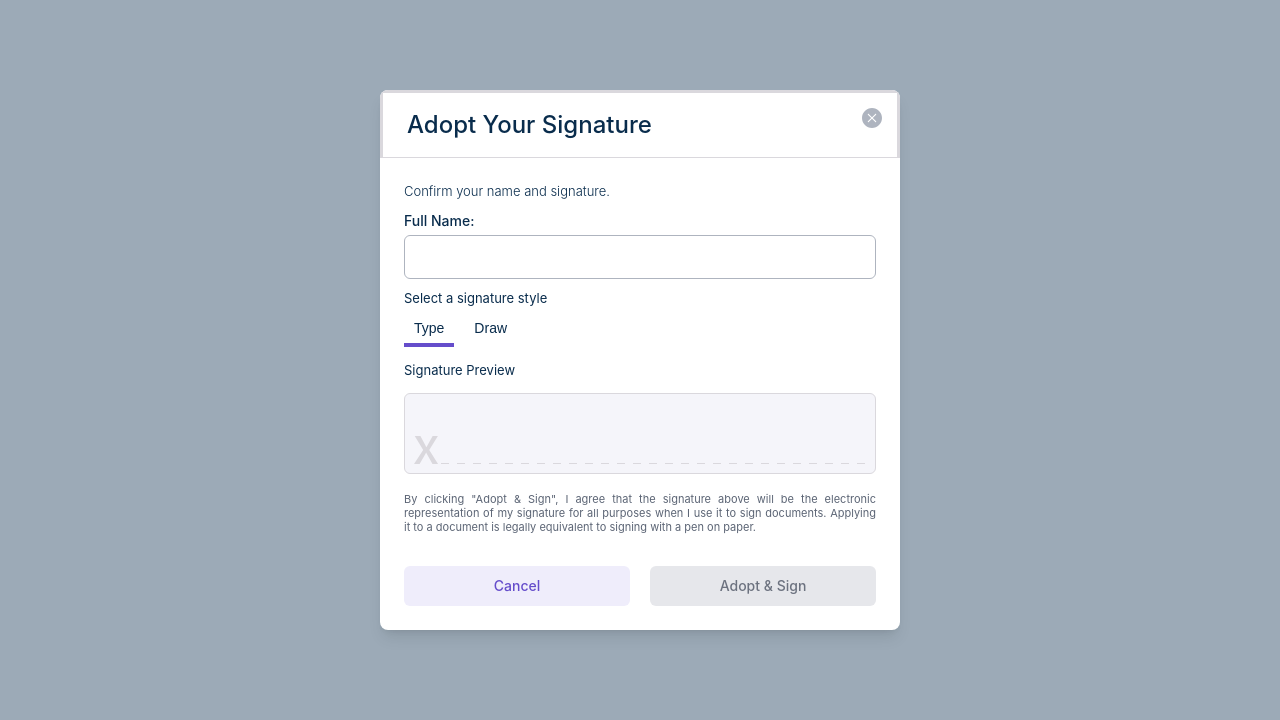
Test: VerdocsAdoptSignatureDialogComponent › clears the drawing and disables adopt again
The image size is (1280, 720).
Click the tab "Draw". click: (491, 330)
box: [464,313,517,347]
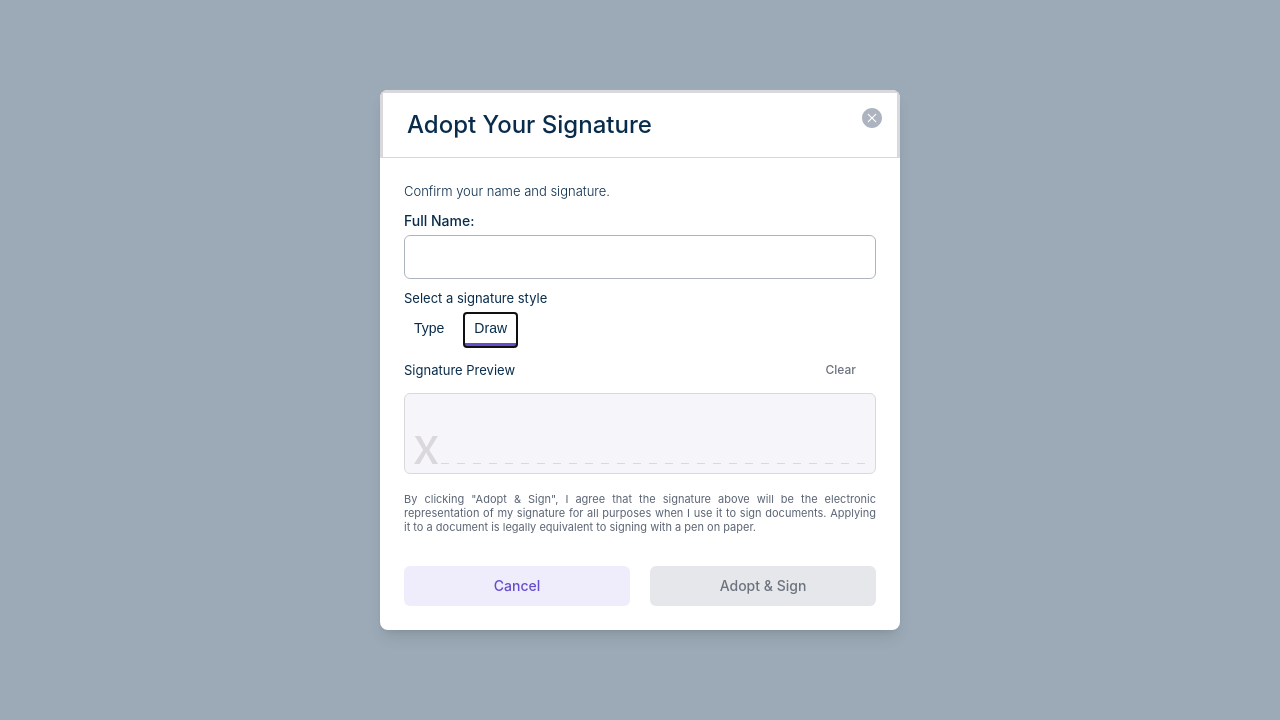
Result: the button "Clear" is disabled at [806,358,876,382]
Press the mouse on the picture named "Signature Preview" at (640, 434), box [405,394,875,473]
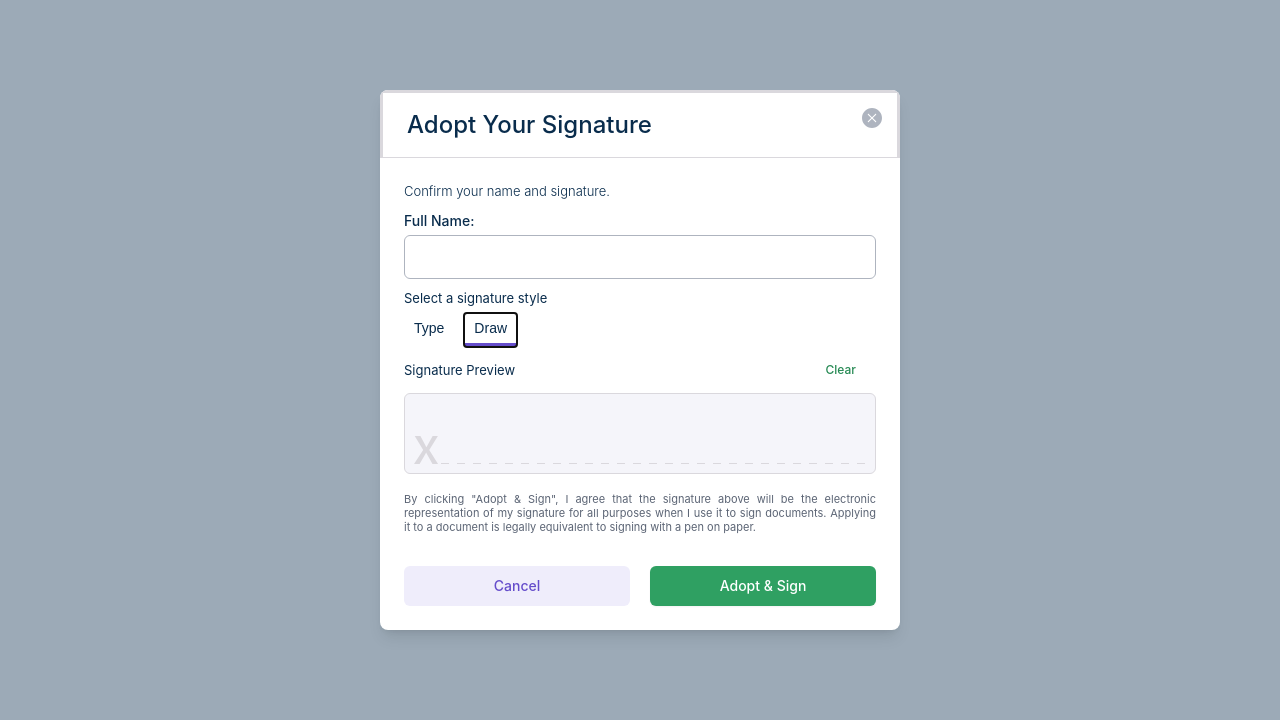
Result: the button "Clear" is enabled
Click the button "Clear". click: (841, 370)
box: [806,358,876,382]
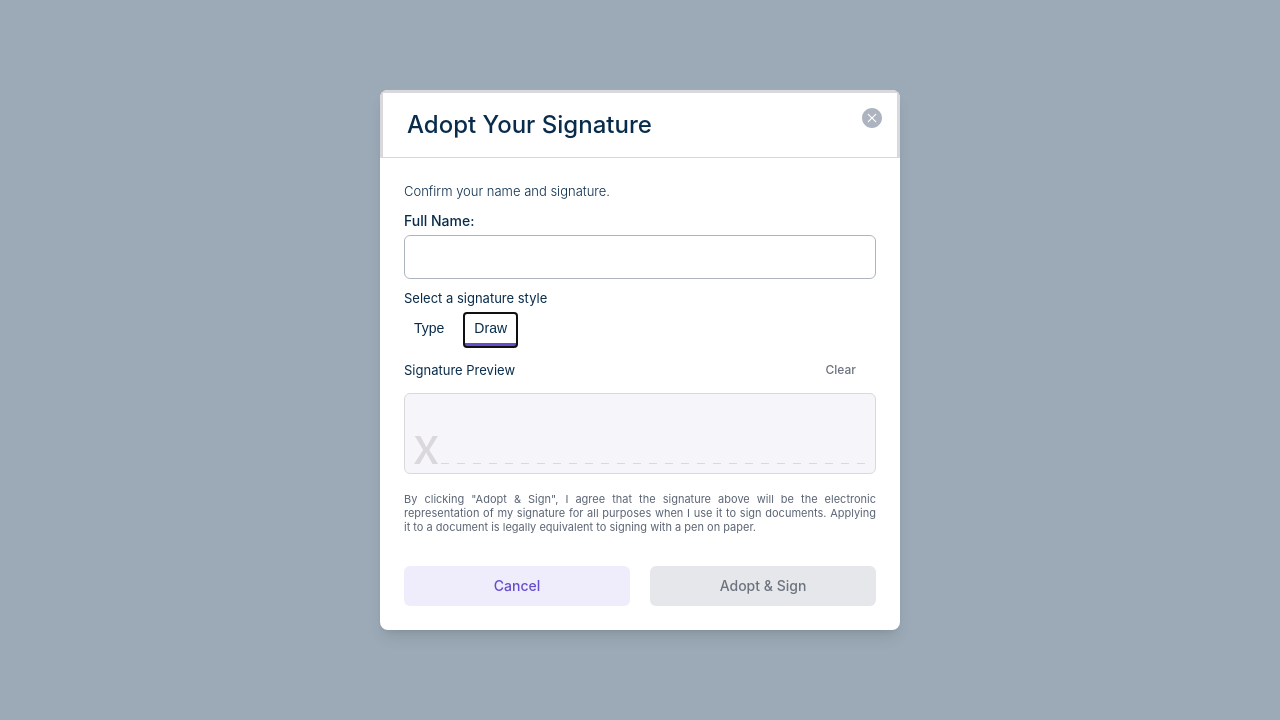
Result: the button "Clear" is disabled at [806,358,876,382]
Result: the button "Adopt & Sign" is disabled at [650,566,876,606]
